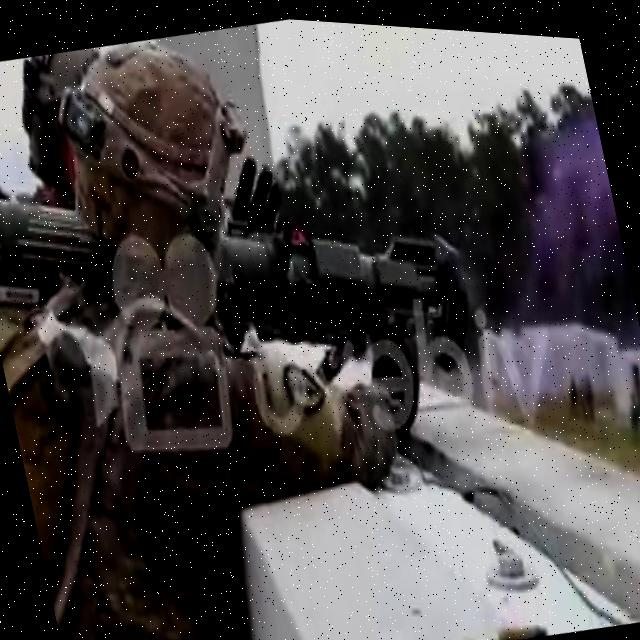rocket: (0, 96, 490, 446)
